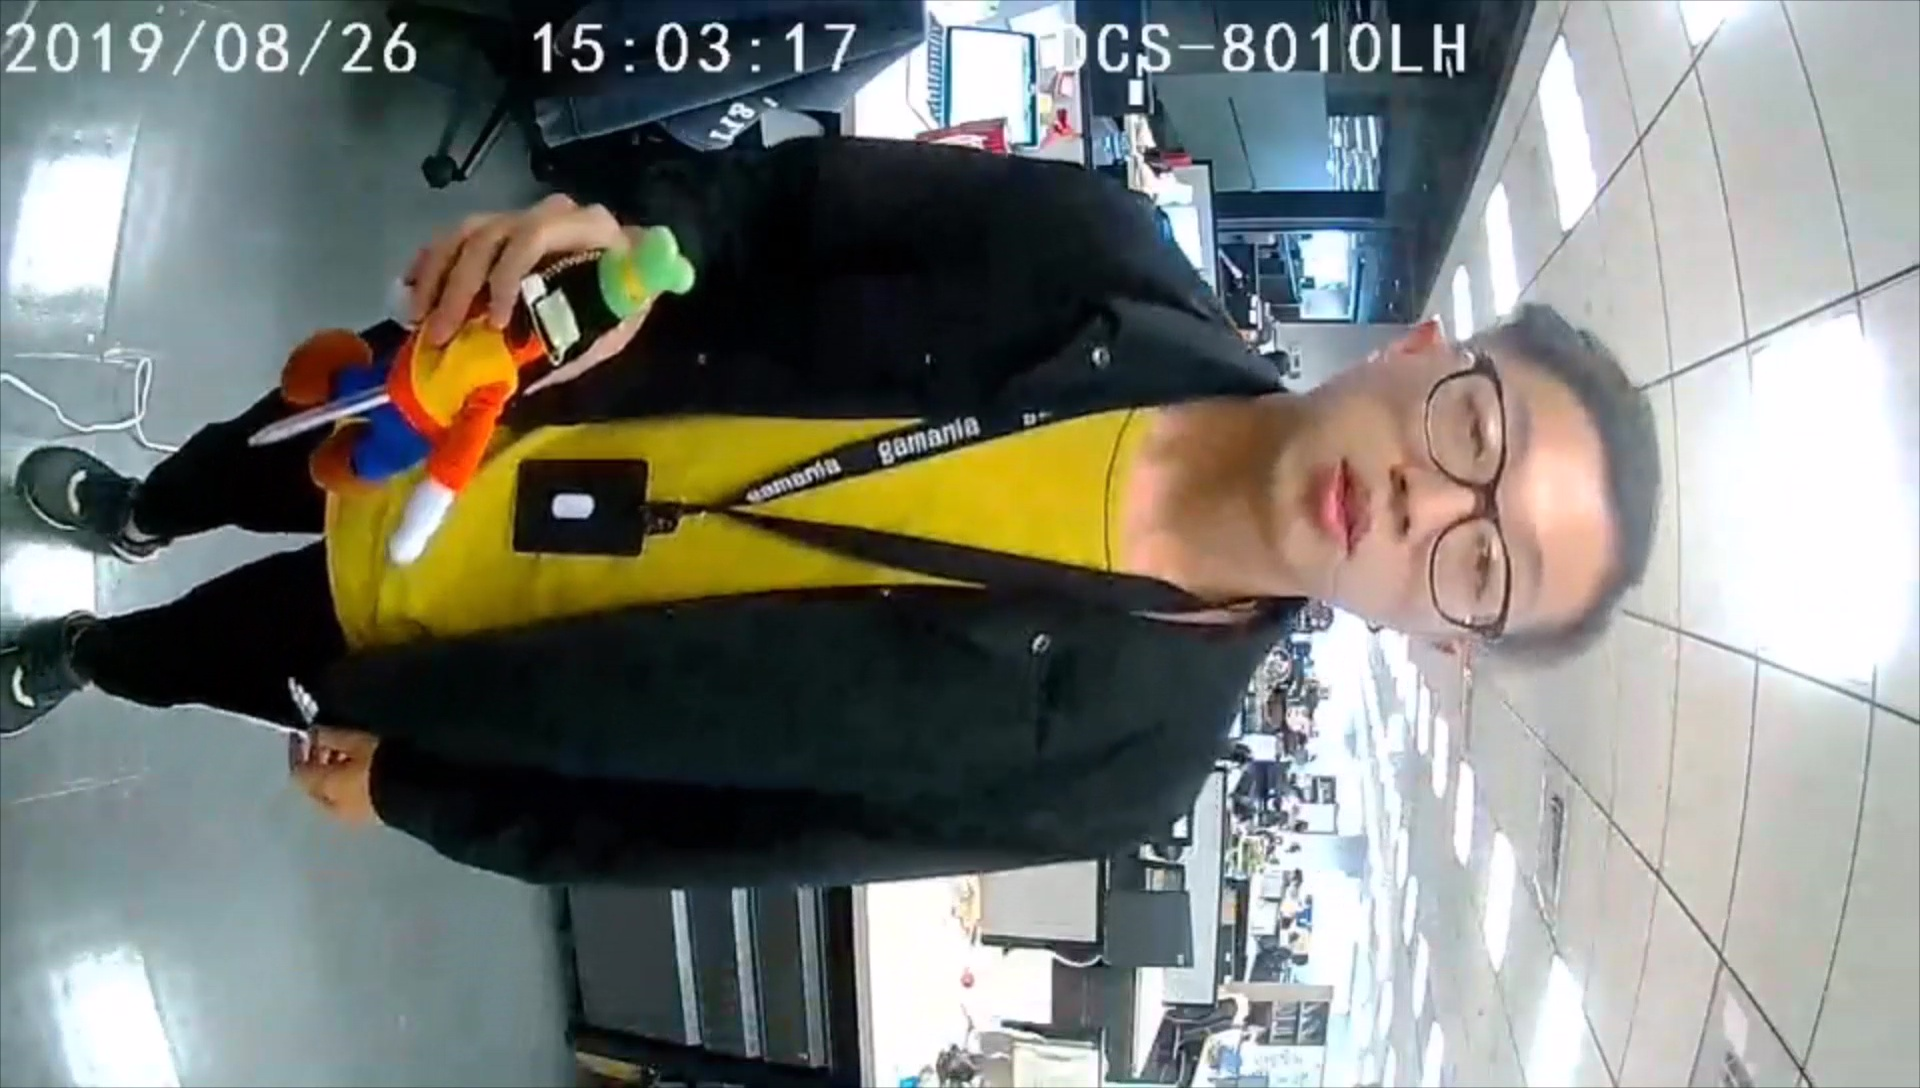goofy: (286, 228, 694, 568)
